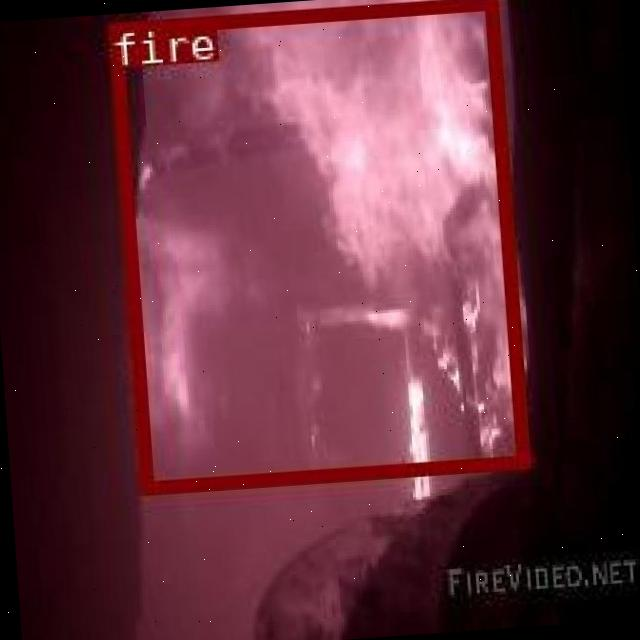fire: (105, 0, 526, 492)
